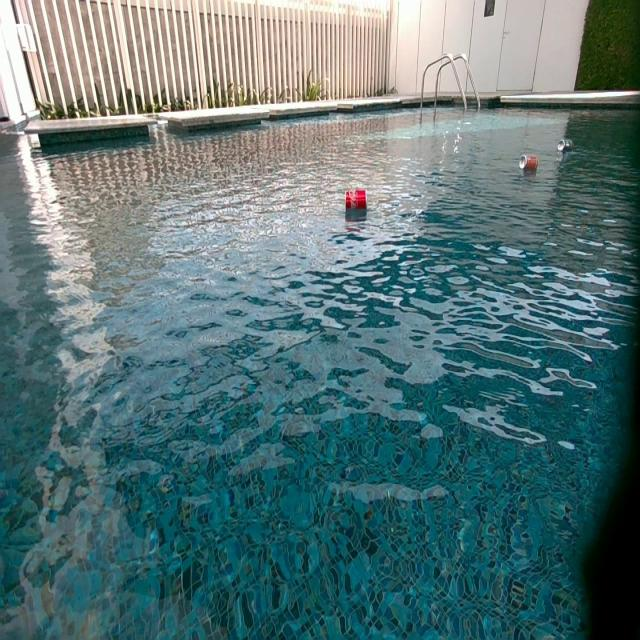Cans: (345, 190, 366, 211), (520, 156, 538, 174), (558, 139, 574, 152)
